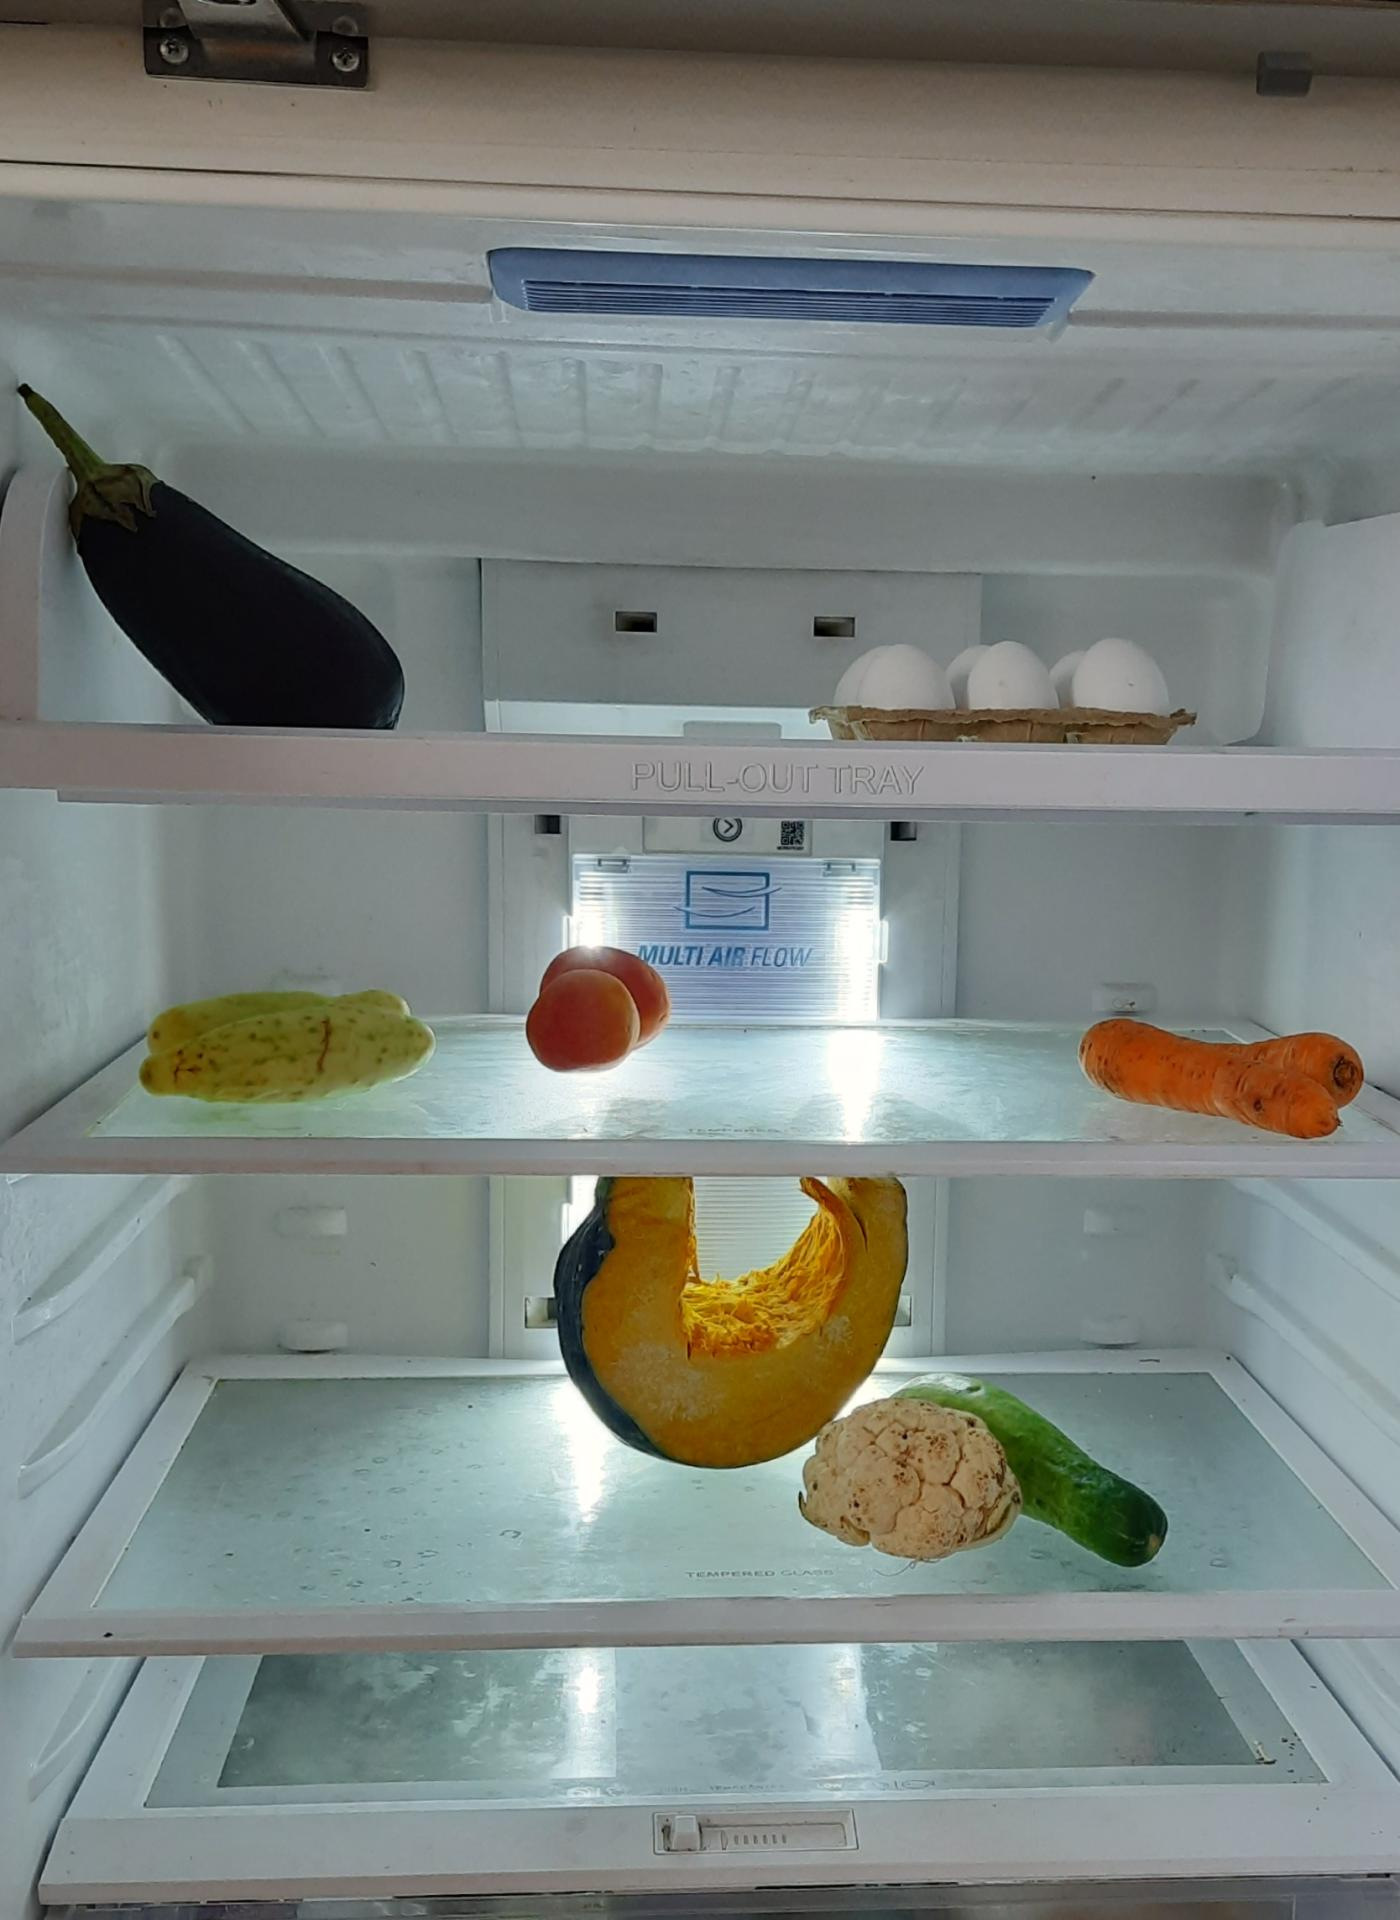brinjal: (25, 383, 426, 732)
carrots: (1085, 1020, 1372, 1136)
cauliflower: (799, 1394, 1027, 1558)
cucumber: (980, 1383, 1178, 1579), (133, 982, 432, 1106)
egg: (839, 629, 1178, 723)
pumpkin: (555, 1179, 915, 1470)
tomato: (522, 947, 671, 1075)
